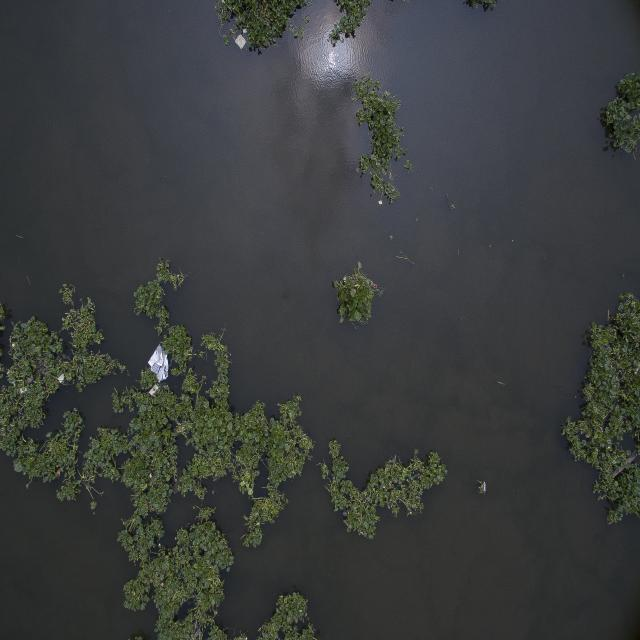plastic: (136, 336, 188, 398), (231, 20, 258, 56), (54, 369, 72, 391), (478, 472, 491, 499), (378, 190, 388, 213)
